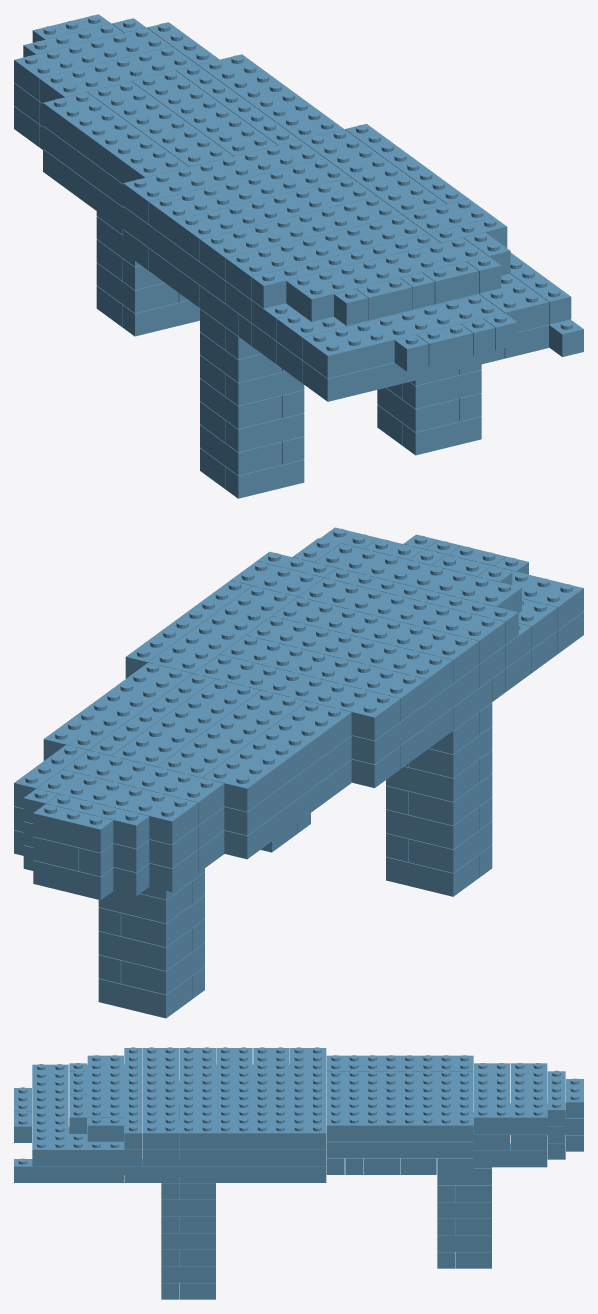
The model's file is collab_piano-L2V1_raw.glb.
3 renders of one model, top to bottom at view 1: azimuth 30°, elevation 25°; view 2: azimuth 150°, elevation 25°; view 3: azimuth 270°, elevation 25°, orthographic. The views are drawn at different scales.
Bounding box in the file's own units: 10.98 × 10.13 × 30.98.
